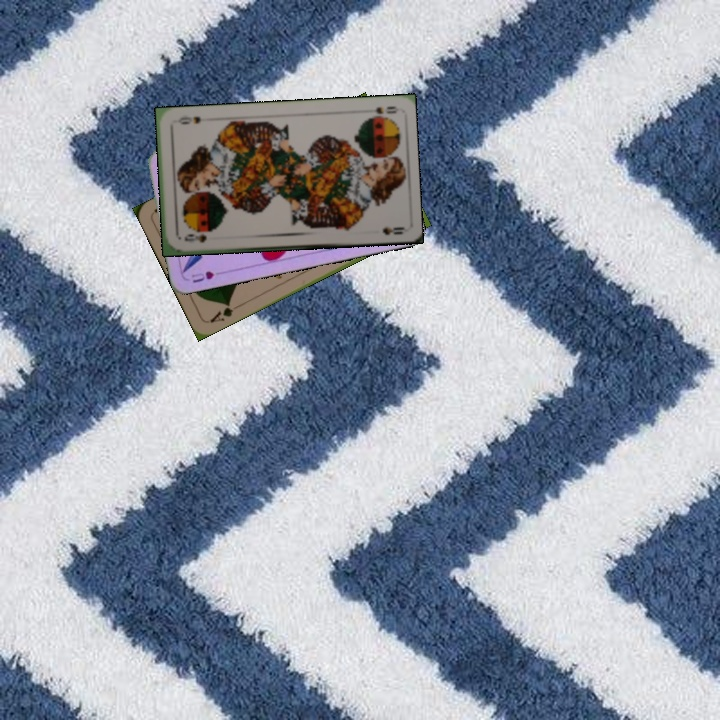GA: (205, 299, 243, 325)
HU: (188, 267, 216, 285)
SO: (180, 230, 209, 245), (371, 102, 399, 116)
